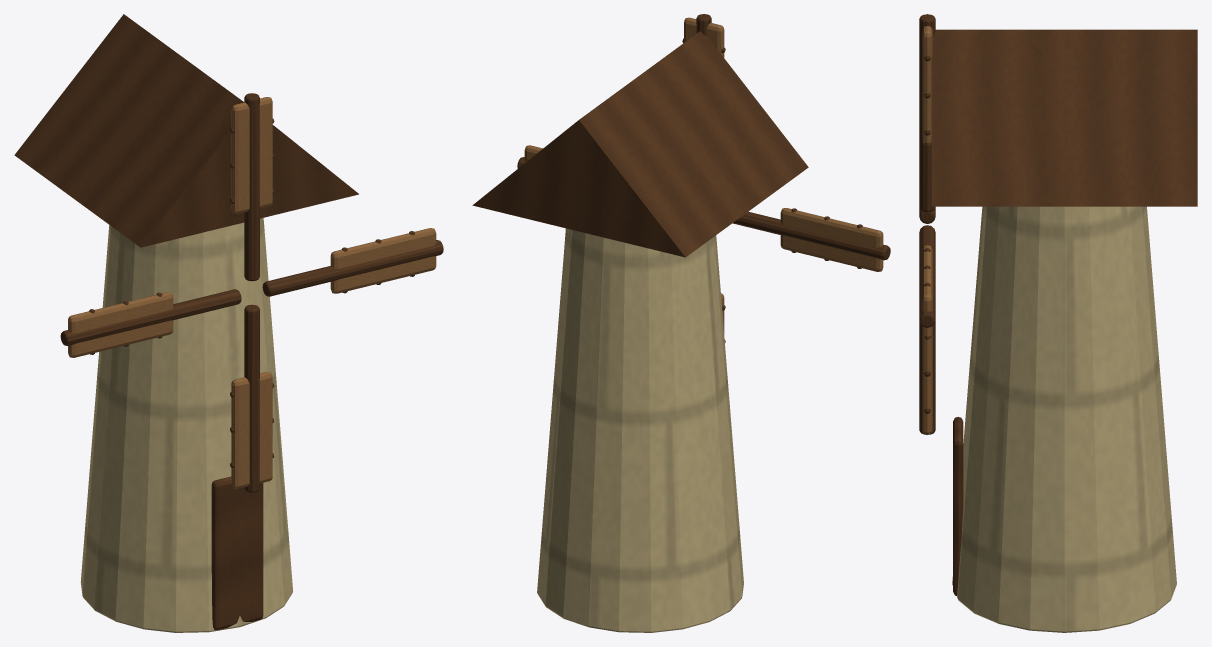
The model's file is mill.glb.
The picture shows the model from 3 angles, left to right: view 1: azimuth 30°, elevation 25°; view 2: azimuth 150°, elevation 25°; view 3: azimuth 270°, elevation 25°; orthographic projection. The views are drawn at different scales.
Parts seen in each view (by area): view 1: mill_base, mill_roof, door, lattice_sail.002, lattice_sail, lattice_sail.001, lattice_sail.003, rotor_spoke, rotor_spoke.002, rotor_spoke.003, rotor_spoke.001; view 2: mill_base, mill_roof, lattice_sail.003, rotor_spoke.003, lattice_sail; view 3: mill_base, mill_roof, door, rotor_spoke, lattice_sail, rotor_spoke.001, lattice_sail.002, rotor_spoke.002, lattice_sail.001.
Part boxes in pixels (x1,y1,x2,y2): mill_base: (80,218,292,632); mill_roof: (14,14,358,247); door: (211,476,263,630); lattice_sail.002: (231,372,272,488); lattice_sail: (231,97,272,213); lattice_sail.001: (330,228,436,293); lattice_sail.003: (68,292,173,357); rotor_spoke: (244,93,259,281); rotor_spoke.002: (244,304,259,492); rotor_spoke.003: (60,289,241,345); rotor_spoke.001: (262,240,443,296); mill_base: (537,228,743,632); mill_roof: (472,31,808,257); lattice_sail.003: (780,208,883,271); rotor_spoke.003: (732,211,890,260); lattice_sail: (684,17,724,57); mill_base: (952,206,1176,632); mill_roof: (931,29,1197,206); door: (953,417,963,595); rotor_spoke: (919,14,935,212); lattice_sail: (922,14,932,145); rotor_spoke.001: (919,225,935,327); lattice_sail.002: (922,335,932,434); rotor_spoke.002: (919,321,935,434); lattice_sail.001: (922,245,932,338).
Bounding box in the file's own units: 2.24 × 3.07 × 1.36.
3 materials, 3 textured.
